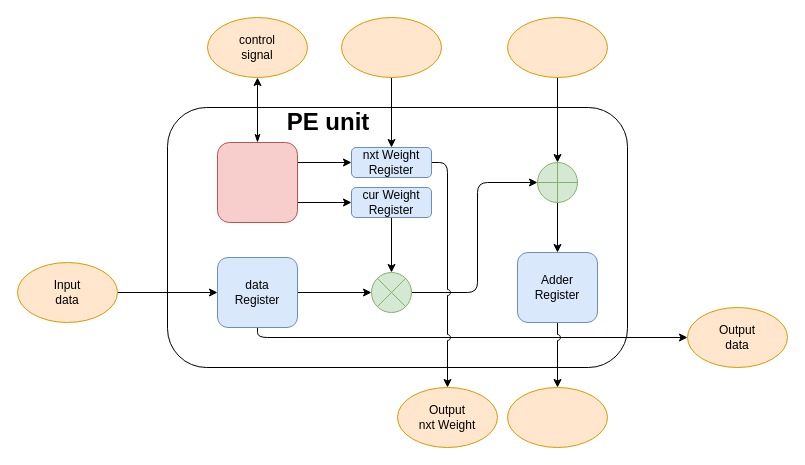
Some shapes in this 805 by 465 pixel diagram are drawn without their labels. The centre of each missing label's shape, as x and y in pixels:
"Input add data" goes at [557,47].
"Input weight" goes at [391,47].
"Output add data" goes at [557,417].
"Weight Loader controler" goes at [257,182].
